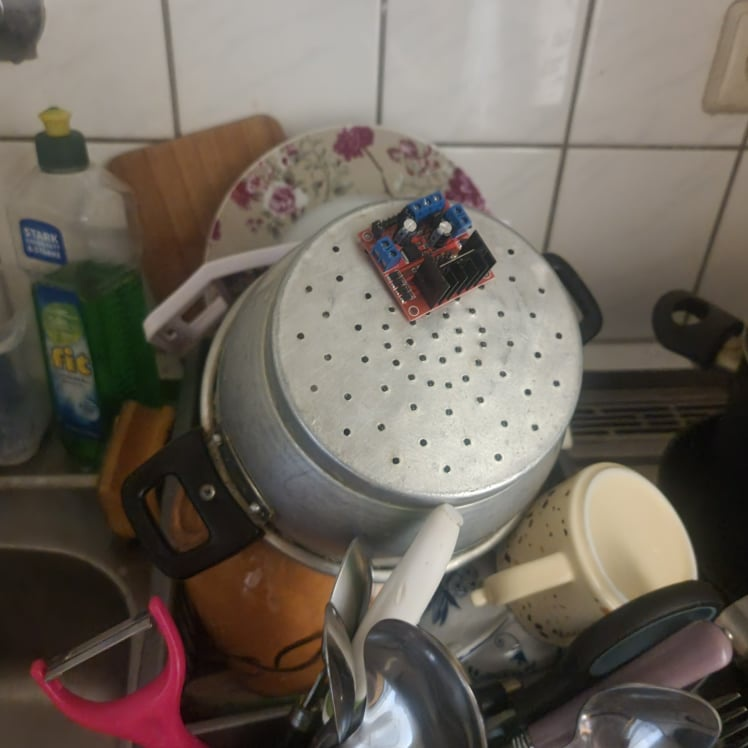MOTOR: (357, 191, 500, 326)
